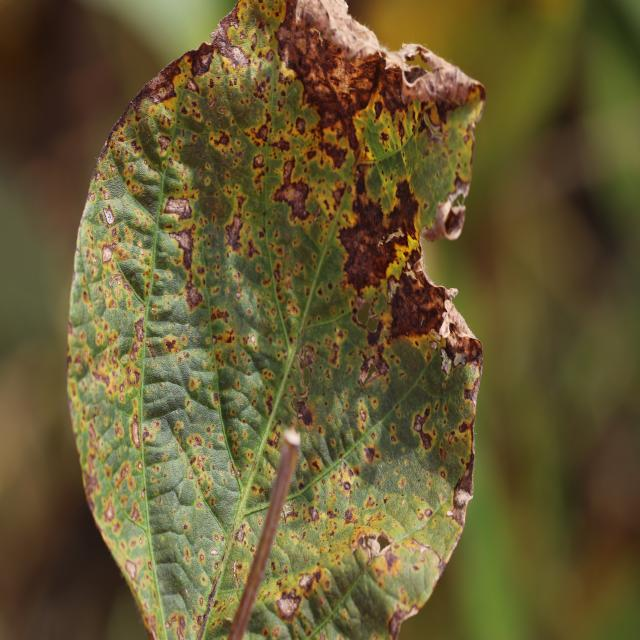Bacterial_Blight: (350, 85, 411, 179), (401, 54, 481, 108), (329, 230, 395, 284), (114, 256, 153, 304), (275, 180, 312, 223), (224, 200, 249, 244), (169, 229, 195, 270), (190, 42, 217, 77), (442, 203, 467, 239), (322, 141, 348, 170), (450, 167, 473, 199), (224, 44, 249, 70), (163, 197, 192, 219), (165, 611, 188, 638), (184, 283, 204, 310), (175, 480, 196, 505), (210, 129, 232, 150), (212, 327, 237, 345), (403, 65, 426, 84), (381, 229, 405, 246), (270, 134, 291, 153), (234, 522, 251, 545), (186, 433, 204, 452), (252, 123, 269, 143), (210, 307, 230, 324), (130, 417, 141, 447), (311, 27, 325, 50), (124, 559, 138, 581), (232, 558, 242, 587), (157, 134, 172, 153), (129, 502, 142, 523), (134, 318, 144, 341), (188, 376, 201, 393), (373, 98, 383, 120), (103, 208, 115, 225), (102, 245, 113, 263), (163, 338, 177, 352), (295, 117, 306, 134), (253, 153, 265, 168), (180, 587, 191, 603), (105, 504, 115, 521), (183, 546, 191, 564), (230, 467, 241, 477), (158, 87, 167, 99), (210, 548, 219, 556), (225, 616, 233, 624), (199, 553, 205, 563), (250, 335, 256, 344), (132, 184, 138, 192)
Soybean: (67, 0, 485, 640)
